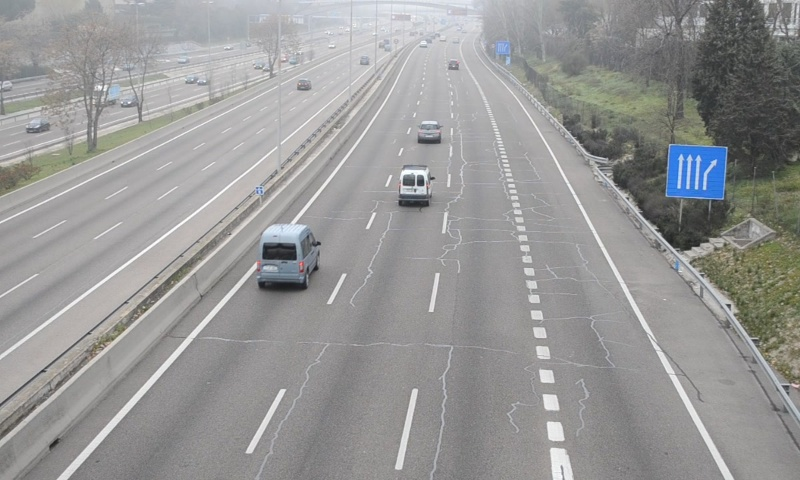car: (416, 120, 442, 144)
van: (256, 225, 319, 284), (398, 167, 432, 203)
